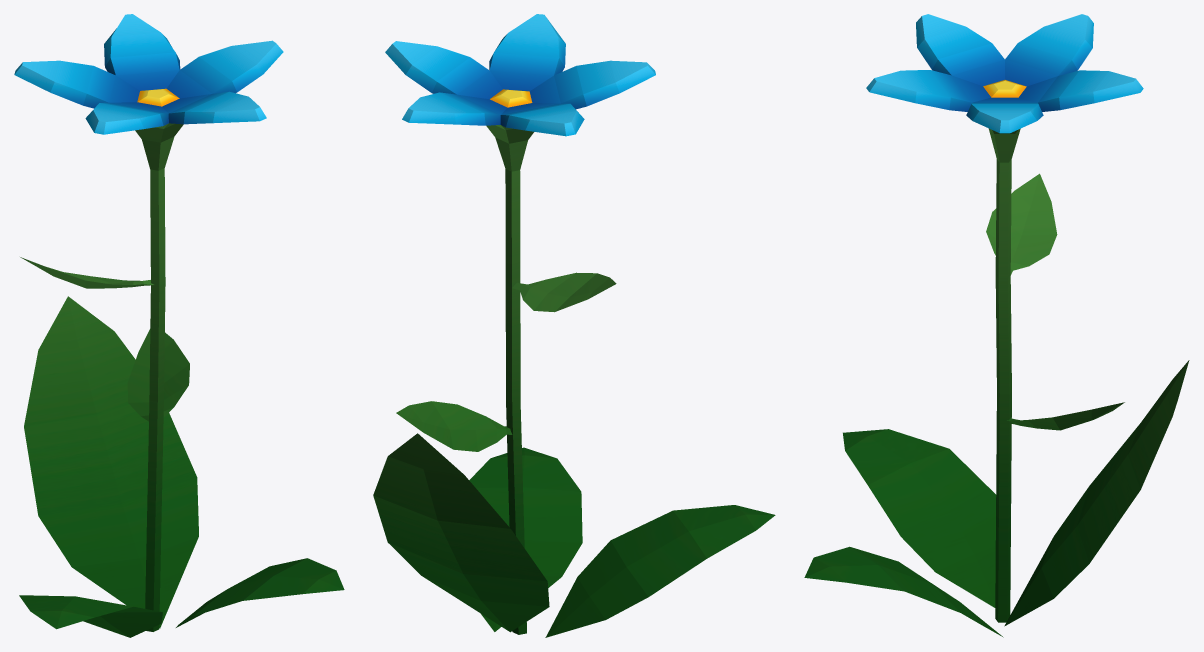
File: Flower_Blue_03.fbx
3 renders of one model, left to right at view 1: azimuth 30°, elevation 25°; view 2: azimuth 150°, elevation 25°; view 3: azimuth 270°, elevation 25°, orthographic.
Visible parts, largest first — view 1: Flower_Blue_03; view 2: Flower_Blue_03; view 3: Flower_Blue_03.
Boxes of the visible parts, box(x1,y1,x2,y2) form: Flower_Blue_03: box(14, 14, 344, 637); Flower_Blue_03: box(373, 14, 775, 637); Flower_Blue_03: box(804, 14, 1189, 637).
Size of the model in its own units: 25.59 by 44.64 by 27.44.
